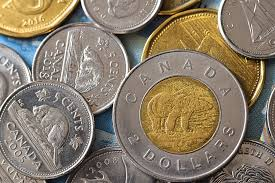coin: (113, 51, 247, 181), (142, 9, 264, 106), (0, 82, 93, 178), (32, 24, 128, 113), (218, 0, 274, 57), (66, 148, 154, 182), (0, 0, 78, 36), (209, 141, 274, 182), (81, 0, 161, 33), (0, 44, 30, 104)
